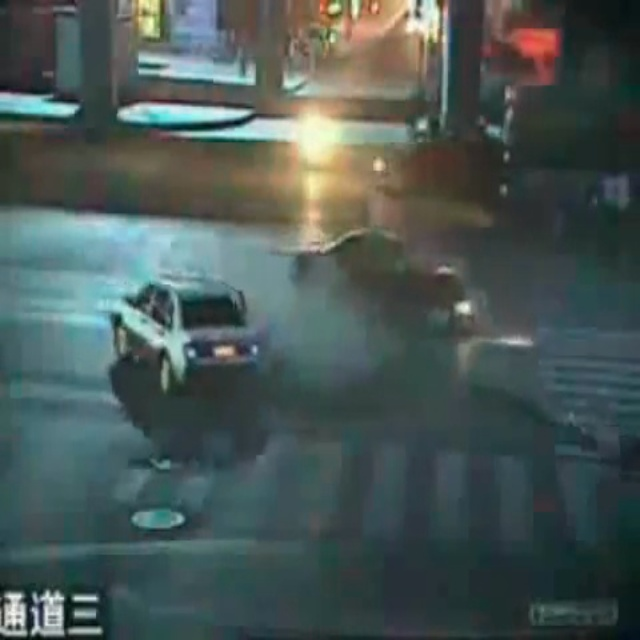acc: (256, 226, 553, 401)
